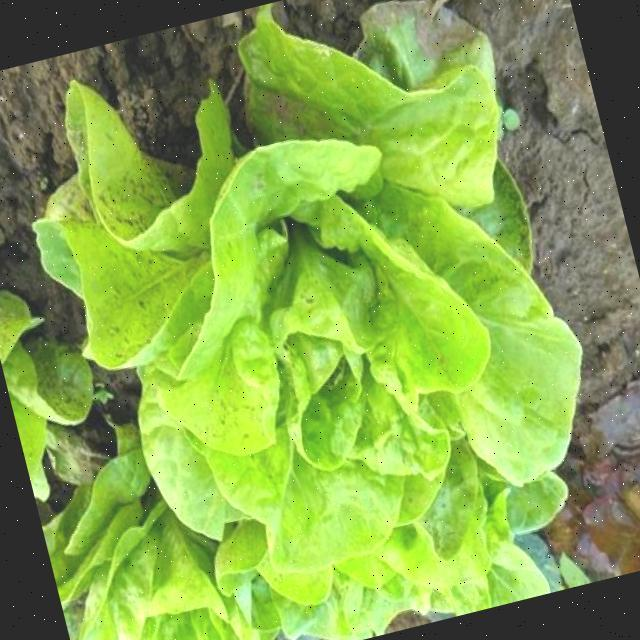Healthy: (125, 101, 551, 563)
